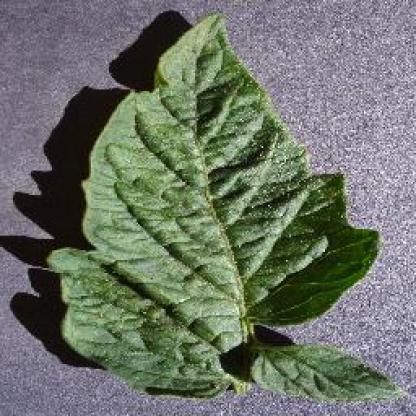good leaf: (90, 21, 377, 391)
